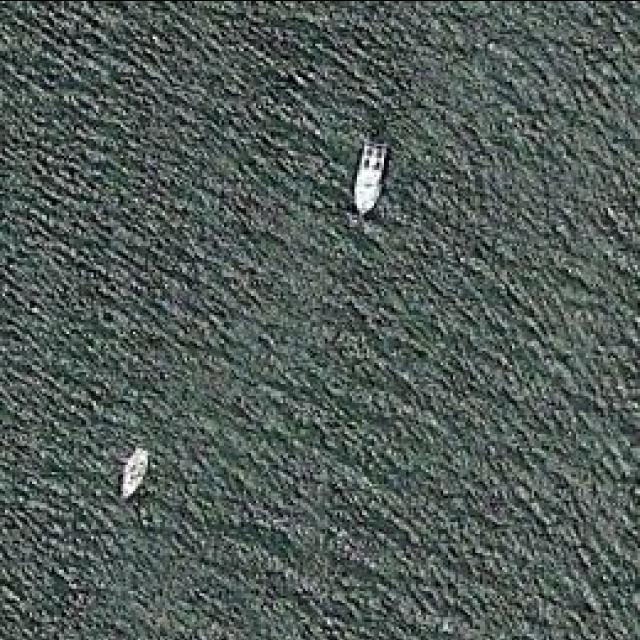ship: (349, 138, 389, 219), (116, 442, 152, 504)
